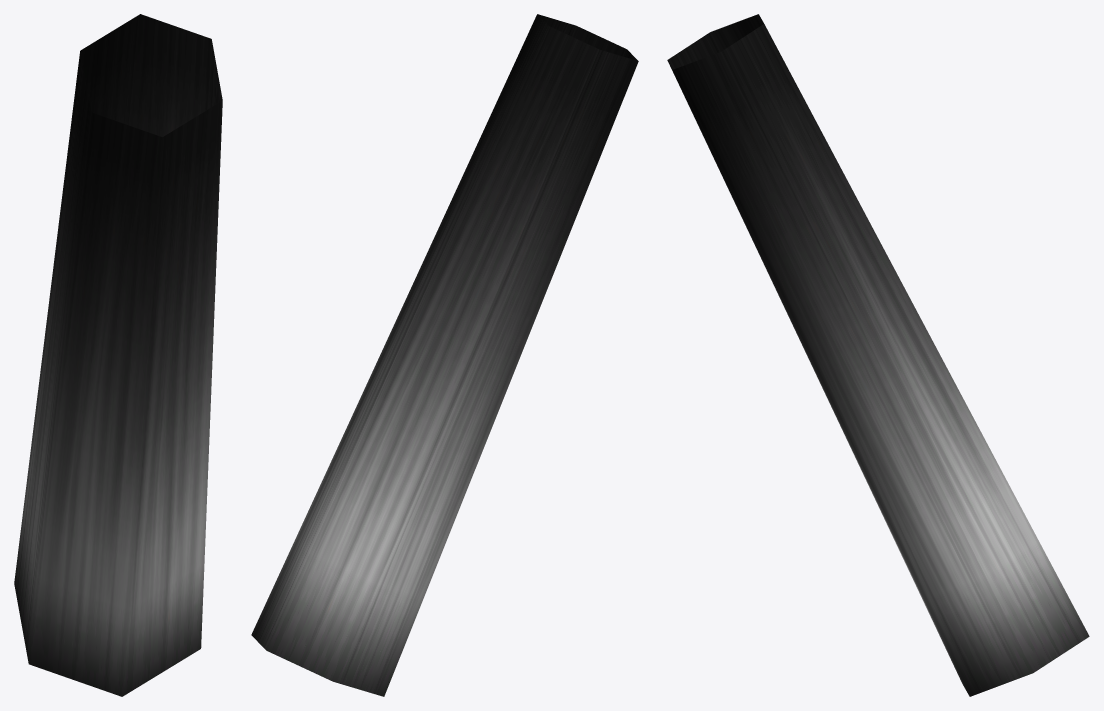
The model's file is treasureChestRoyalClam.fbx.
3 views of the same model, side by side, from view 1: azimuth 30°, elevation 25°; view 2: azimuth 150°, elevation 25°; view 3: azimuth 270°, elevation 25° (orthographic). The views are drawn at different scales.
Parts seen in each view (by area): view 1: chestLightshaft; view 2: chestLightshaft; view 3: chestLightshaft.
Part boxes in pixels (x1=…): chestLightshaft: x1=14, y1=14, x2=222, y2=696; chestLightshaft: x1=251, y1=14, x2=638, y2=696; chestLightshaft: x1=667, y1=14, x2=1089, y2=696.
Size of the model in its own units: 4.78 by 12.04 by 7.44.
Materials: 3 (3 with a texture image).
